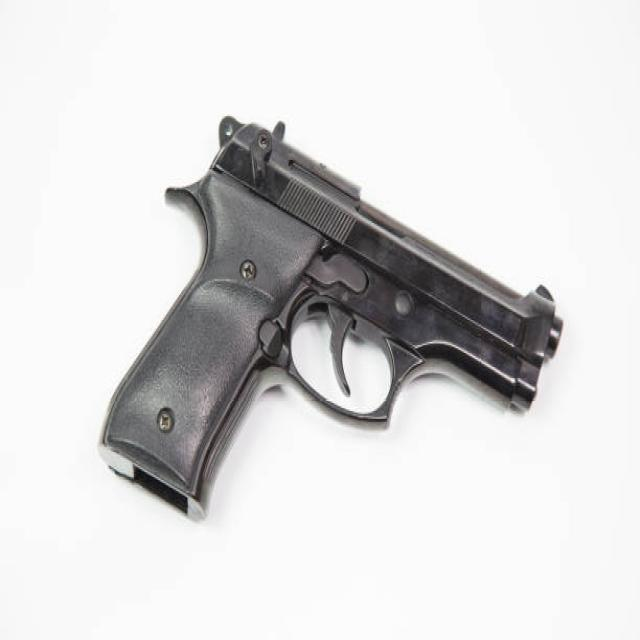pistol: (91, 101, 568, 529)
